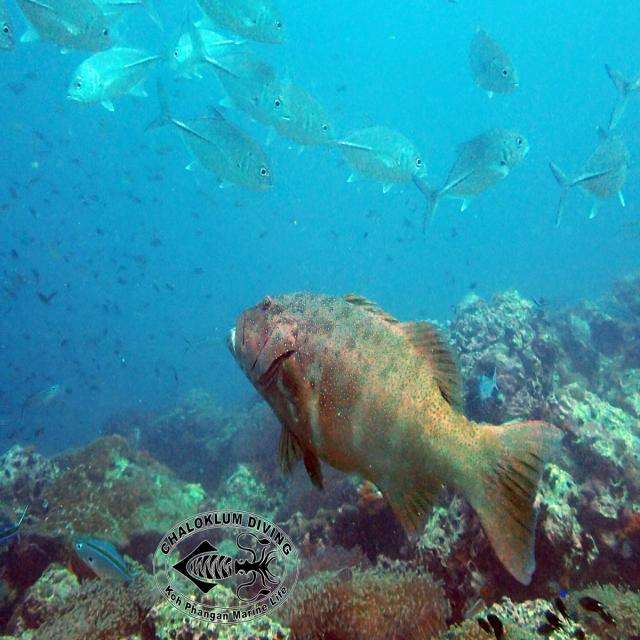Plectropomus-leopardus: (219, 256, 569, 610)
